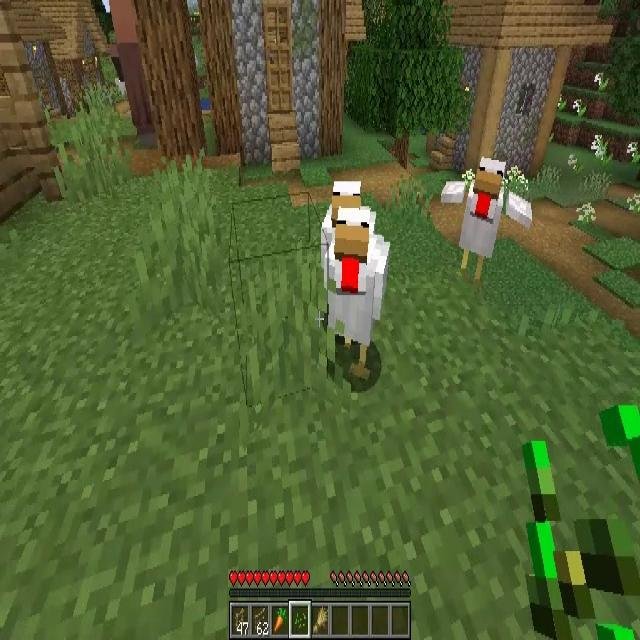duck: (325, 202, 391, 376), (440, 160, 516, 282)
